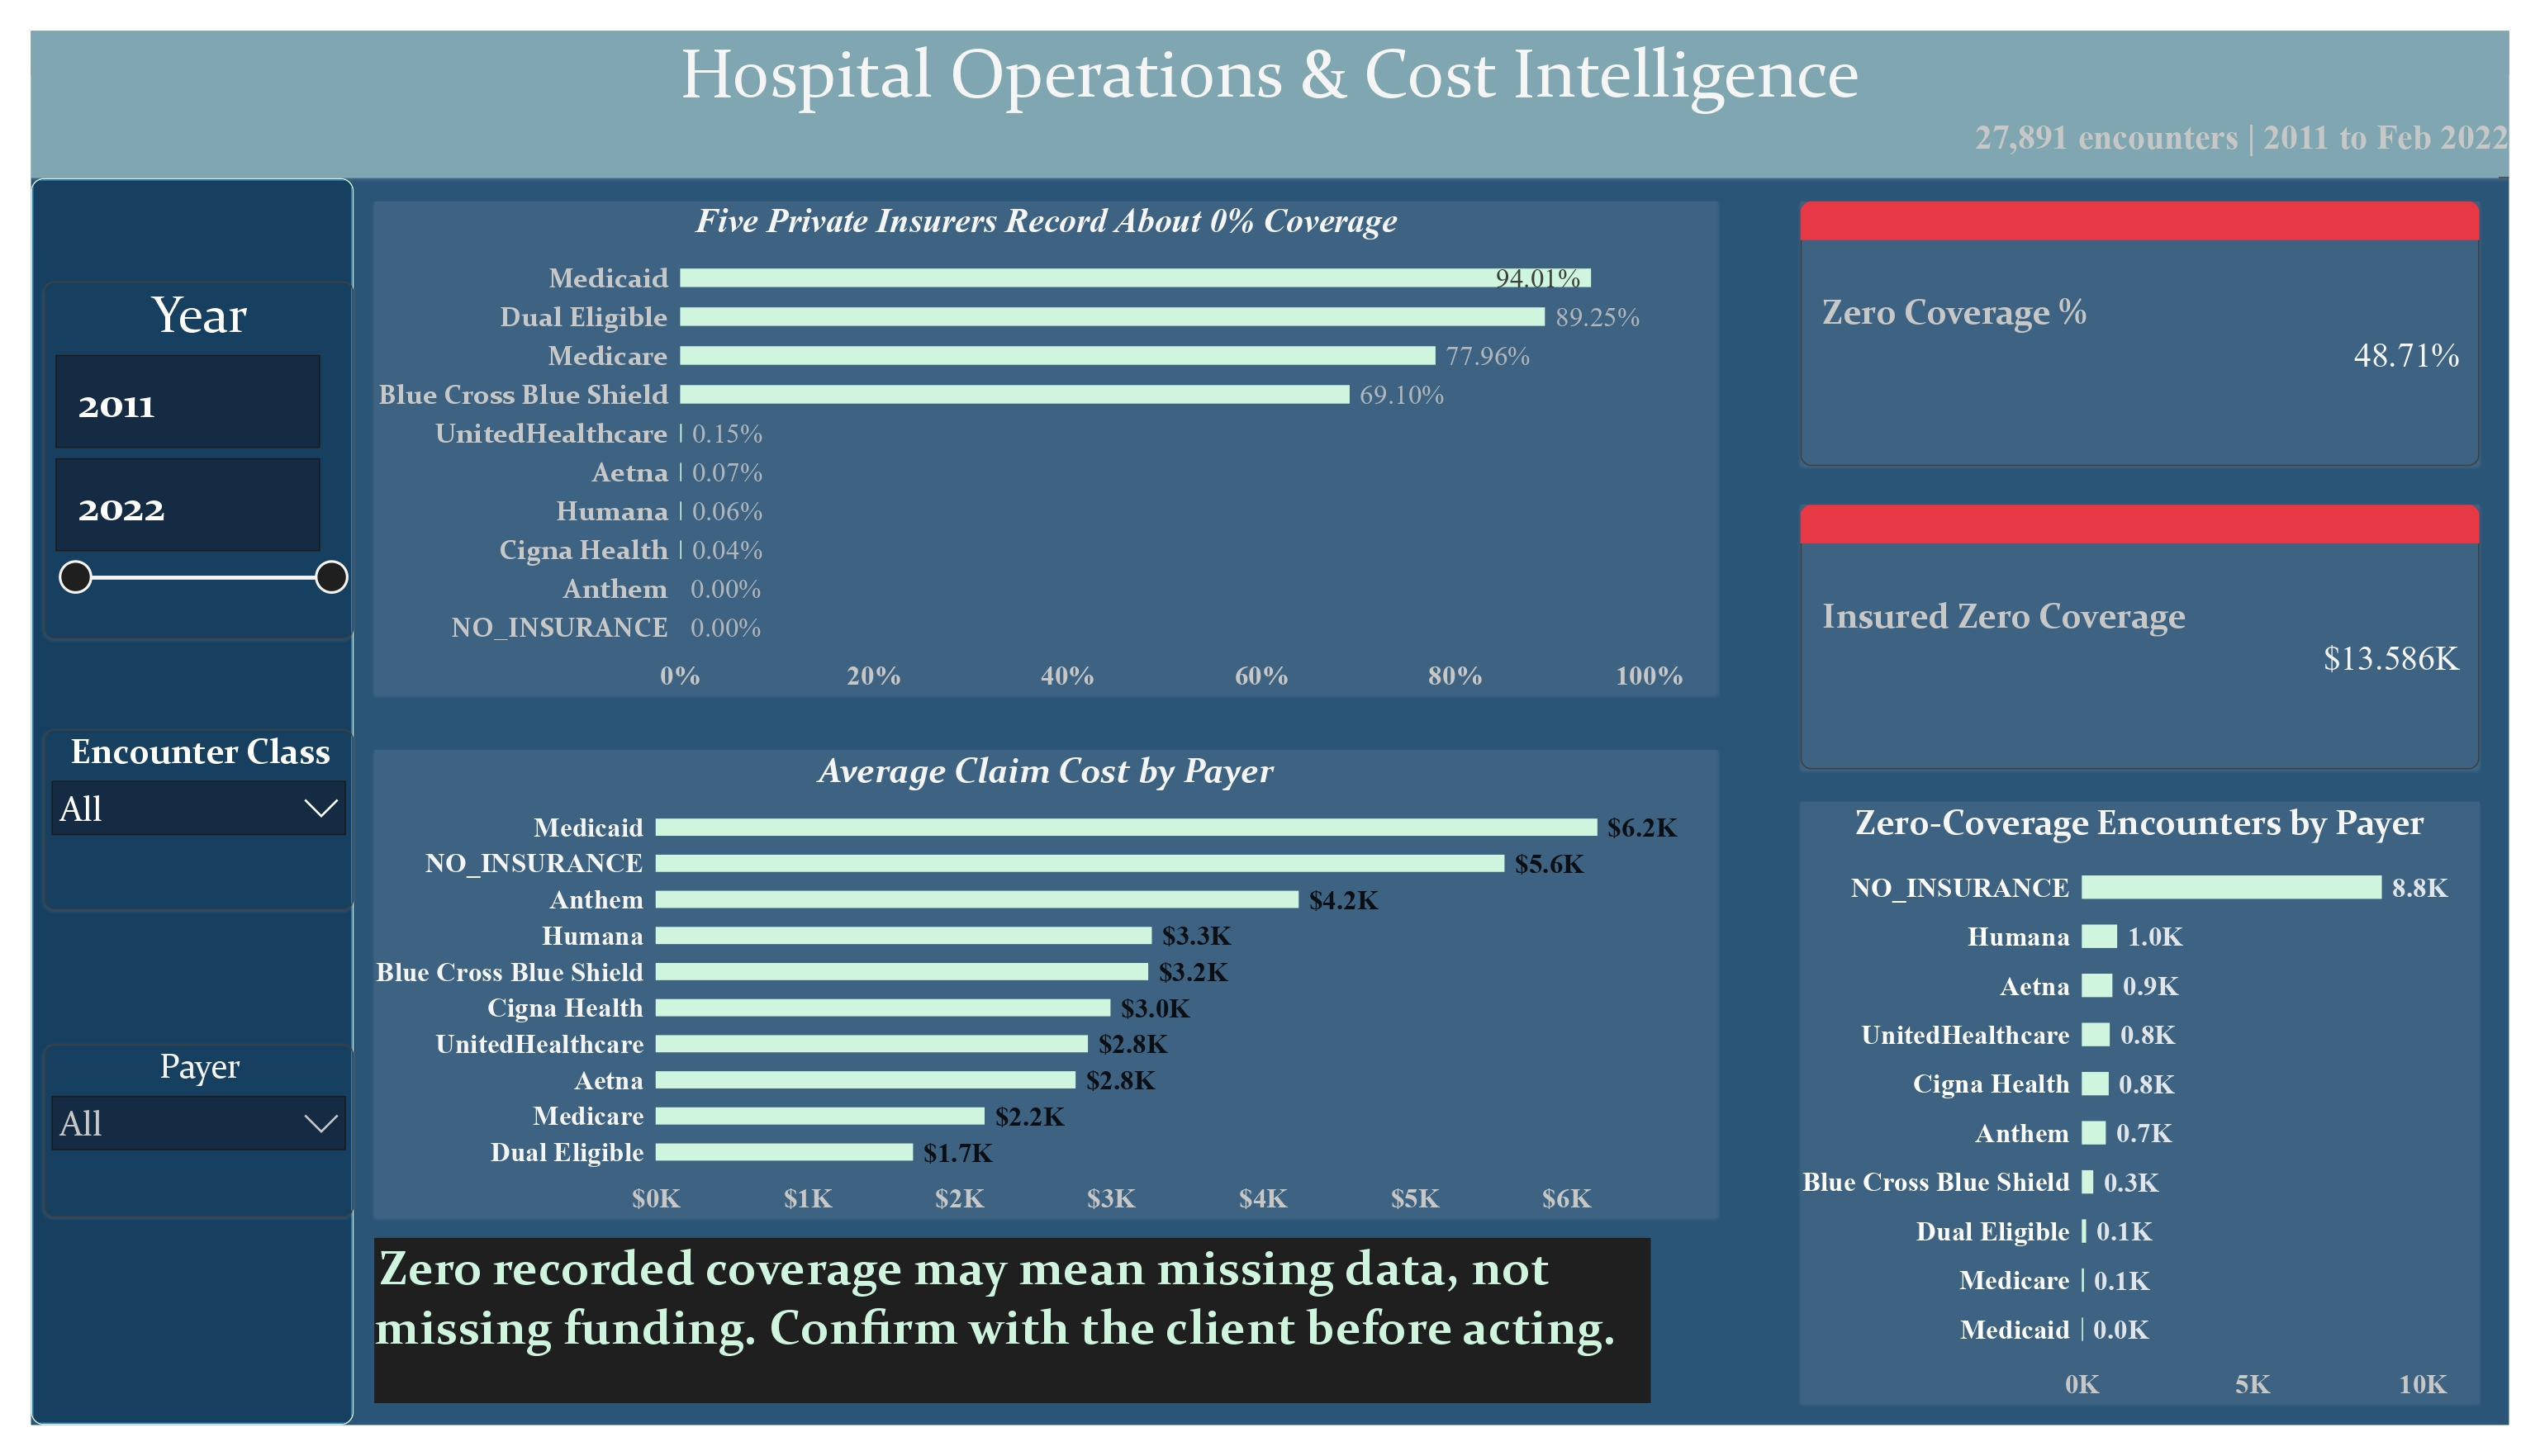

This screenshot's page, from the dashboard's own definition file:
{"tool":"powerbi","page":{"name":"Payers","canvas":[1920,1080],"ordinal":3},"visuals":[{"type":"textbox","title":"Hospital Operations & Cost Intelligence","box":[0,0,1920,113.5],"z":0},{"type":"shape","box":[0,113.5,249.8,966.2],"z":0,"group":"g1"},{"type":"group","id":"g1","title":"Group 1","box":[0,113.5,249.8,966.2],"z":1000},{"type":"slicer","title":"Year","fields":{"Values":["DimDate.Date.Variation.Date Hierarchy.Year"]},"box":[10.3,194.1,239.5,276.6],"z":2000},{"type":"slicer","title":"Encounter Class","fields":{"Values":["encounters.ENCOUNTERCLASS"]},"box":[10.3,540.9,239.5,140.4],"z":3000},{"type":"slicer","title":"Payer","fields":{"Values":["payers.Payer_Name"]},"box":[10.3,784.5,239.5,134.2],"z":4000},{"type":"clusteredBarChart","title":"Five Private Insurers Record About 0% Coverage","fields":{"Category":["payers.Payer_Name"],"Y":["encounters.Coverage Rate"]},"box":[266.3,132.1,1040.5,381.9],"z":11000},{"type":"clusteredBarChart","title":"Average Claim Cost by Payer","fields":{"Category":["payers.Payer_Name"],"Y":["encounters.Avg Claim Cost"]},"box":[266.3,557.4,1040.5,361.3],"z":12000},{"type":"cardVisual","title":"Claim Cost with Zero Coverage","fields":{"Data":["encounters.Zero Coverage %"]},"box":[1370.8,132.1,526.5,204.4],"z":13000},{"type":"clusteredBarChart","title":"Zero-Coverage Encounters by Payer","fields":{"Category":["payers.Payer_Name"],"Y":["encounters.Zero Coverage Encounters"]},"box":[1370.8,596.6,526.5,466.6],"z":13001},{"type":"cardVisual","title":"Claim Cost with Zero Coverage","fields":{"Data":["encounters.Insured Zero Coverage"]},"box":[1370.8,367.5,526.5,204.4],"z":13002},{"type":"textbox","box":[266.3,935.2,988.9,128],"z":13003}]}

Visuals, with their boxes on the page's 1920x1080 design canvas (x1, y1, x2, y2). These are canvas units, not pixel positions in the 2540x1456 screenshot, which may show the page scaled, cropped or inside an application window:
"Hospital Operations & Cost Intelligence" textbox: l=0, t=0, r=1920, b=114
shape: l=0, t=114, r=250, b=1080
"Group 1" group: l=0, t=114, r=250, b=1080
"Year" slicer: l=10, t=194, r=250, b=471
"Encounter Class" slicer: l=10, t=541, r=250, b=681
"Payer" slicer: l=10, t=784, r=250, b=919
"Five Private Insurers Record About 0% Coverage" clusteredBarChart: l=266, t=132, r=1307, b=514
"Average Claim Cost by Payer" clusteredBarChart: l=266, t=557, r=1307, b=919
"Claim Cost with Zero Coverage" cardVisual: l=1371, t=132, r=1897, b=336
"Zero-Coverage Encounters by Payer" clusteredBarChart: l=1371, t=597, r=1897, b=1063
"Claim Cost with Zero Coverage" cardVisual: l=1371, t=368, r=1897, b=572
textbox: l=266, t=935, r=1255, b=1063
